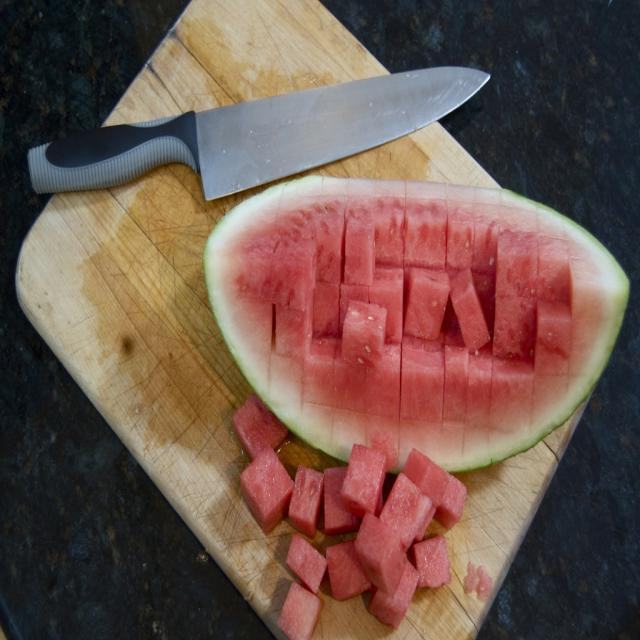Knife: (28, 66, 490, 199)
